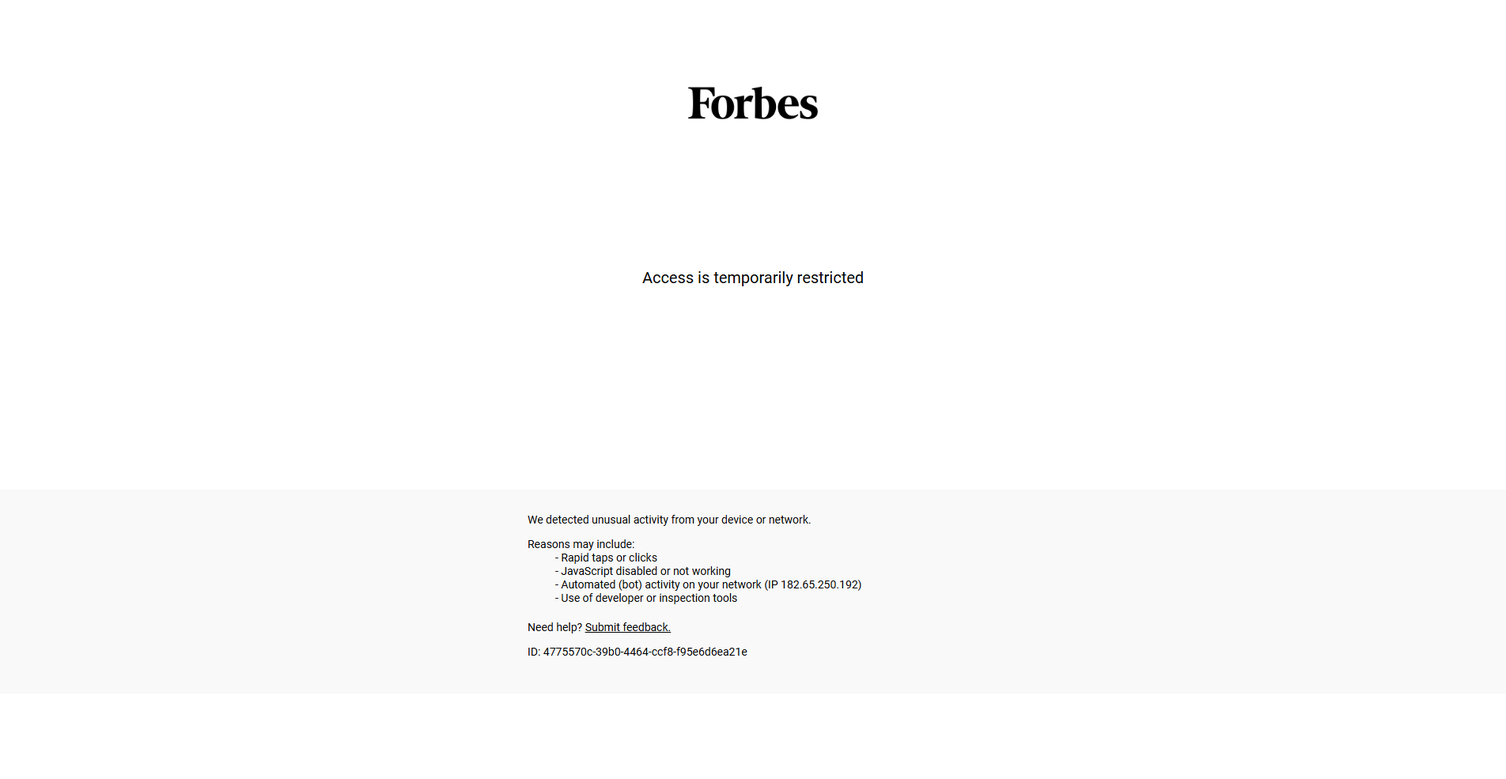button: (1002, 528, 1128, 560), (120, 410, 203, 431), (1449, 9, 1493, 35), (1421, 327, 1449, 355), (120, 414, 173, 427), (13, 9, 38, 35), (1281, 644, 1307, 669), (1281, 766, 1307, 779)
dropdown: (120, 410, 1386, 431), (180, 410, 196, 431)
link: (120, 457, 964, 779), (1002, 596, 1307, 631), (1002, 719, 1307, 754), (104, 325, 300, 363), (766, 325, 962, 363), (325, 325, 520, 363), (546, 325, 741, 363), (987, 325, 1182, 363), (1208, 325, 1403, 363), (1239, 6, 1424, 38), (1313, 596, 1386, 669), (1313, 719, 1386, 779), (0, 325, 79, 363), (1428, 325, 1506, 363), (712, 10, 794, 34), (104, 286, 162, 305)
slider: (91, 309, 312, 368), (532, 309, 753, 368), (753, 309, 974, 368), (1194, 309, 1415, 368), (312, 309, 532, 368), (974, 309, 1194, 368), (0, 309, 91, 368), (1415, 309, 1506, 368)
